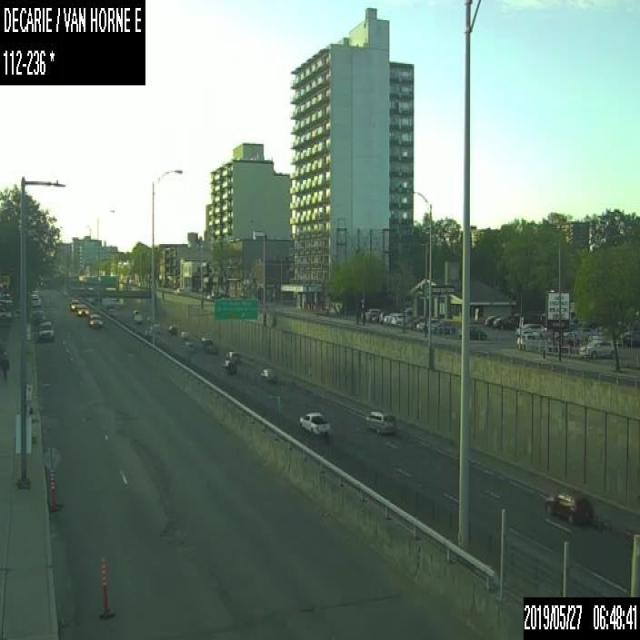construction: (98, 558, 116, 618), (49, 468, 56, 511)
pedestrian: (0, 349, 9, 379)
vehicle: (544, 489, 594, 524), (363, 409, 396, 434), (299, 411, 330, 436), (578, 338, 612, 358), (457, 324, 486, 340), (516, 332, 542, 348), (428, 320, 455, 334), (493, 314, 517, 329), (37, 321, 54, 340), (516, 322, 542, 333), (360, 307, 380, 320), (260, 366, 276, 382), (88, 312, 102, 329), (222, 359, 236, 374), (31, 308, 44, 323), (225, 350, 240, 362), (76, 302, 88, 316), (202, 337, 213, 352), (180, 339, 193, 351), (131, 308, 142, 322), (484, 314, 494, 326), (70, 297, 79, 310), (167, 323, 176, 334), (180, 330, 188, 338), (174, 287, 183, 294)
